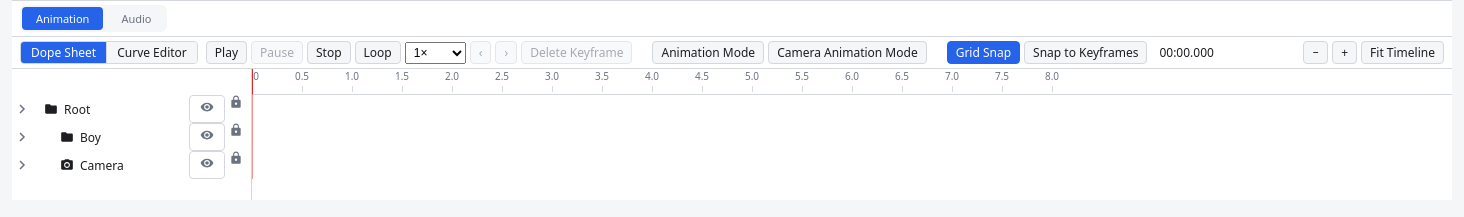
it: TimelinePanel property subtracks › hides subtracks by default and expands a node into its six properties
The width and height of the screenshot is (1464, 217).
Expected: the button "Boy" is shown, [32,123,251,151]
Expected: the text "Position X" is not shown
Click the button named "Toggle subtracks of Boy" at (22, 137), box [12,123,32,151]
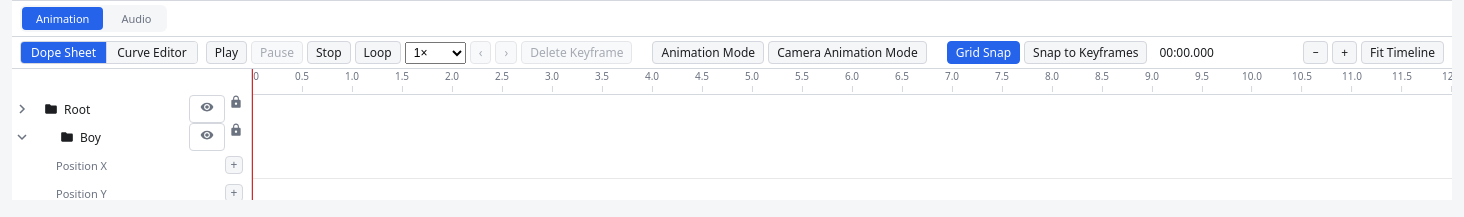
Expected: the text "Position X" is shown, [56,158,107,172]
Expected: the text "Position Y" is shown, [56,186,107,200]
